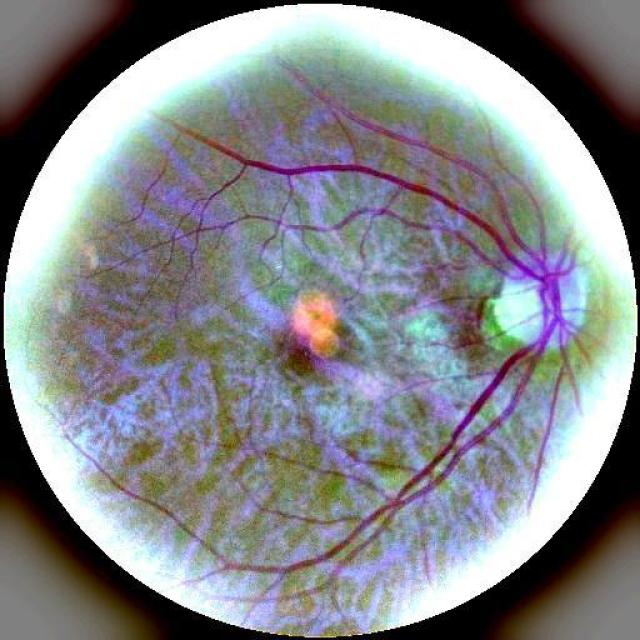Macula: (278, 292, 339, 374)
Nerves: (168, 61, 576, 569)
Optic Disk: (480, 249, 585, 351)
